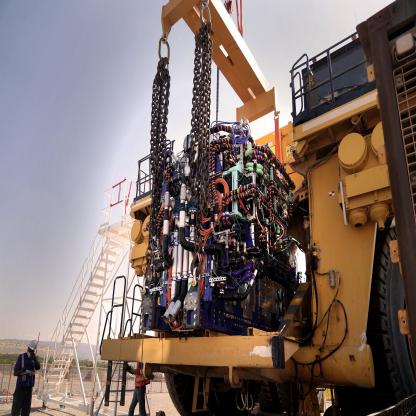dump_truck: (107, 3, 416, 408)
person: (10, 334, 40, 416)
